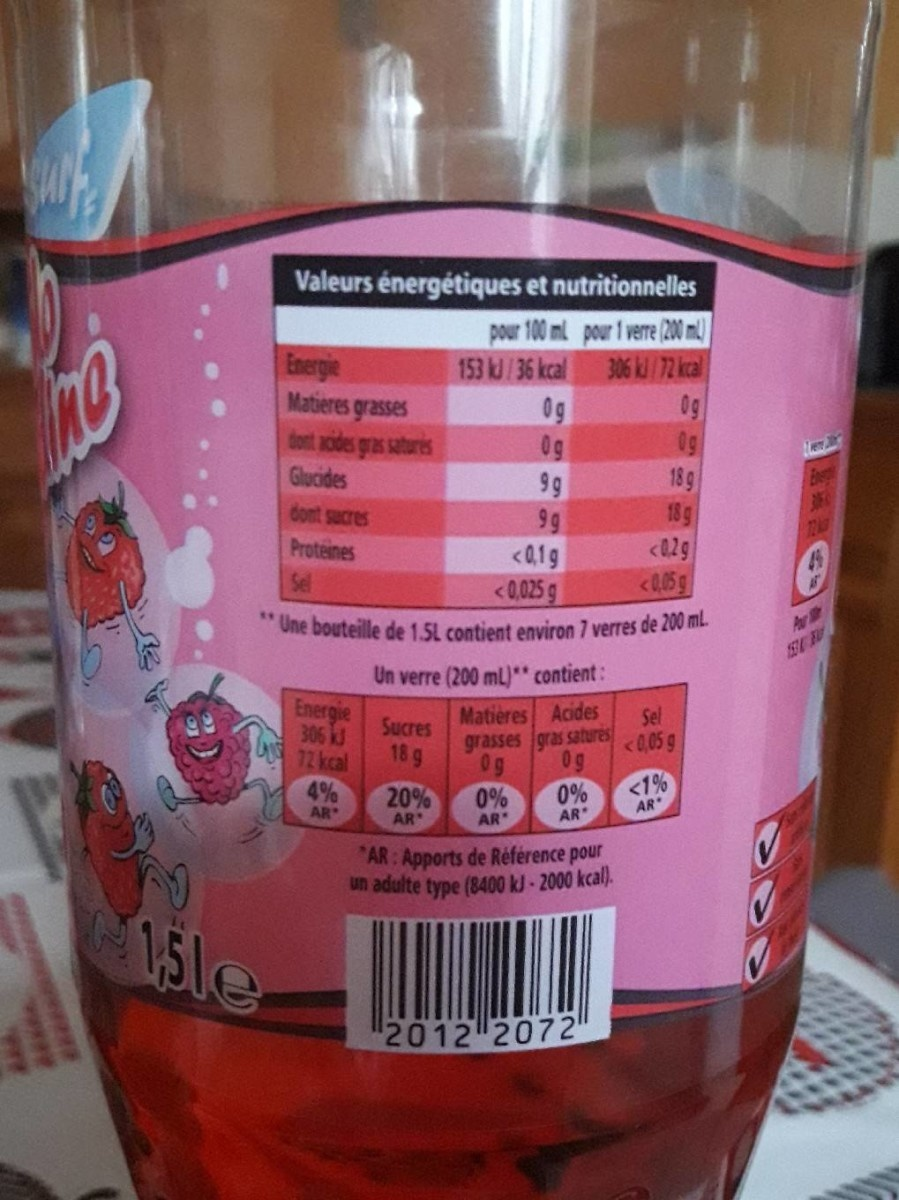column: (277, 347, 434, 600), (579, 314, 699, 599), (454, 314, 570, 599)
table: (271, 250, 706, 606)
